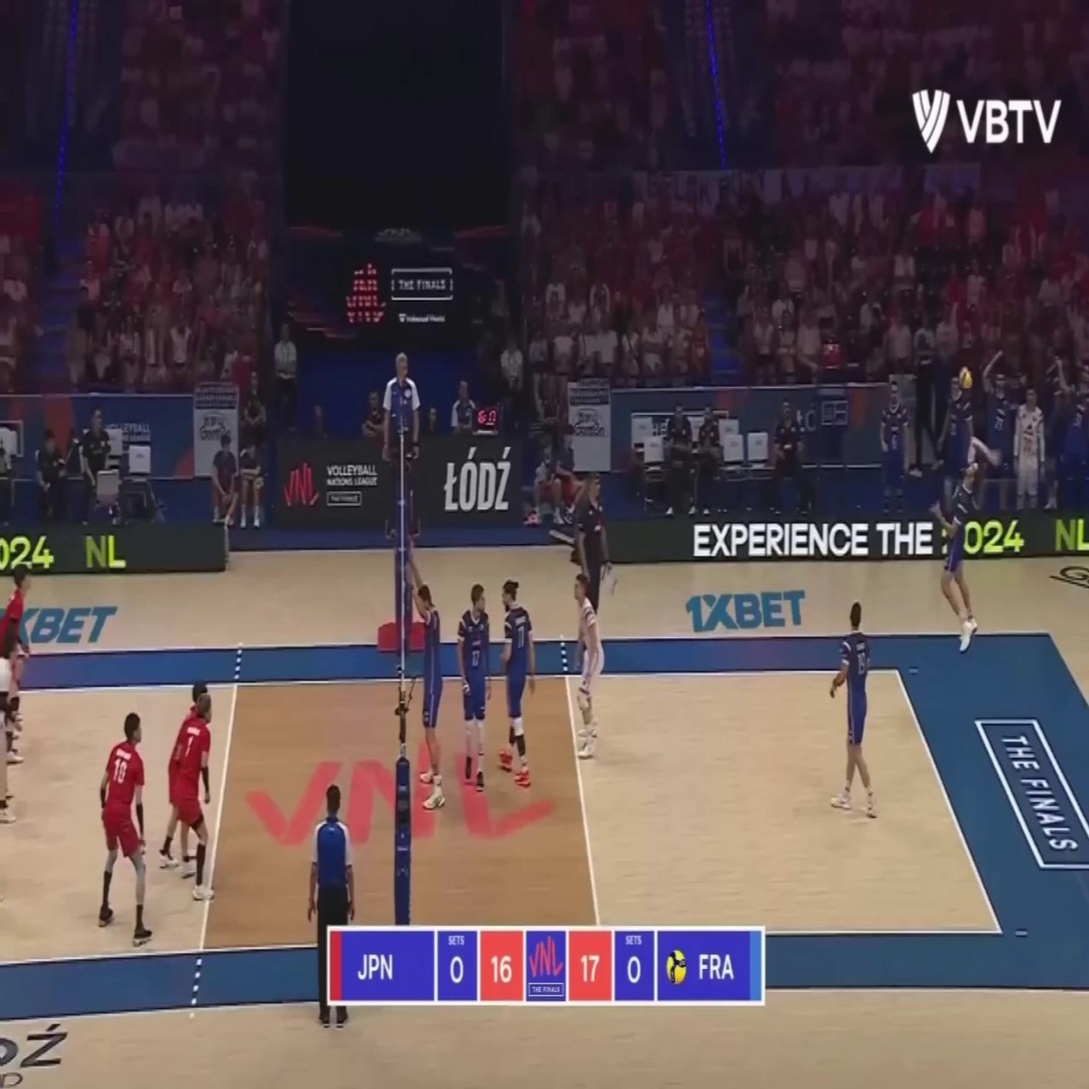ball: (959, 367, 971, 390)
